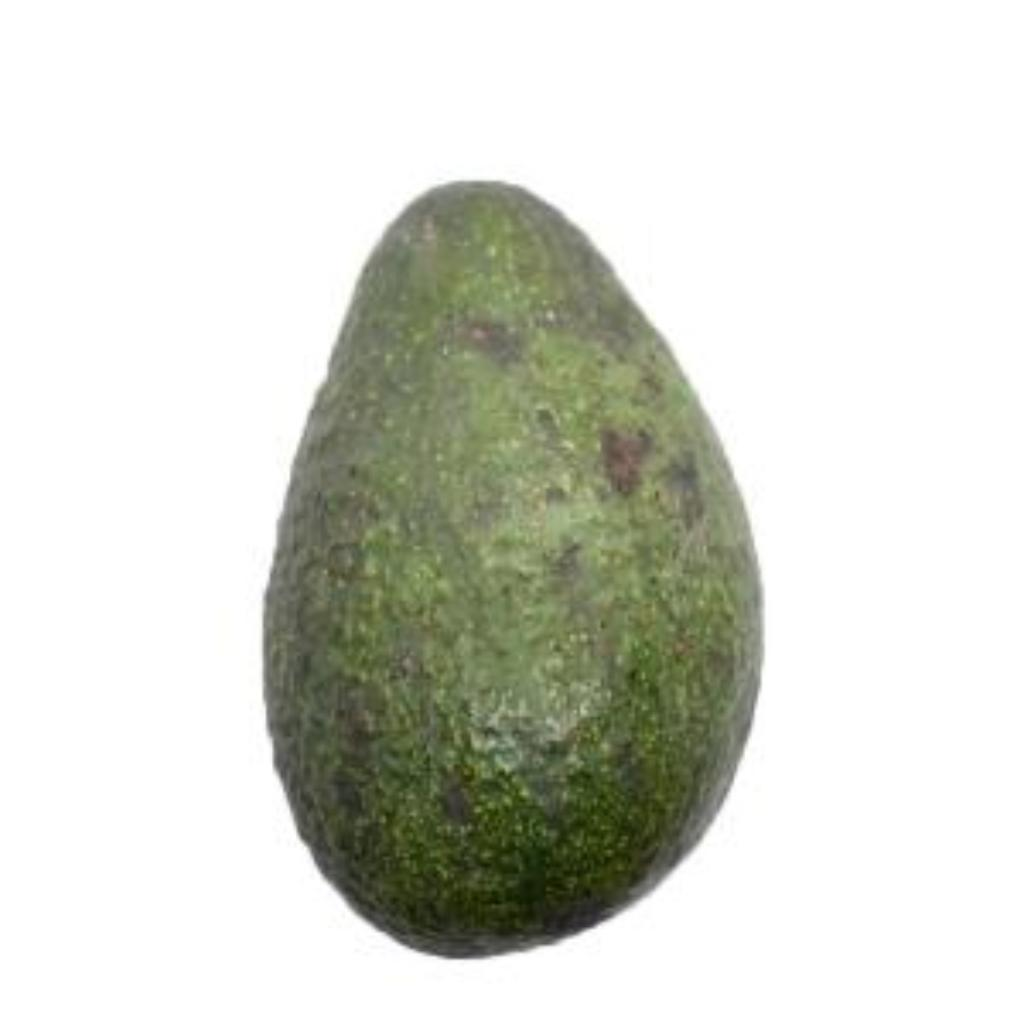cercospora: (240, 176, 759, 964)
